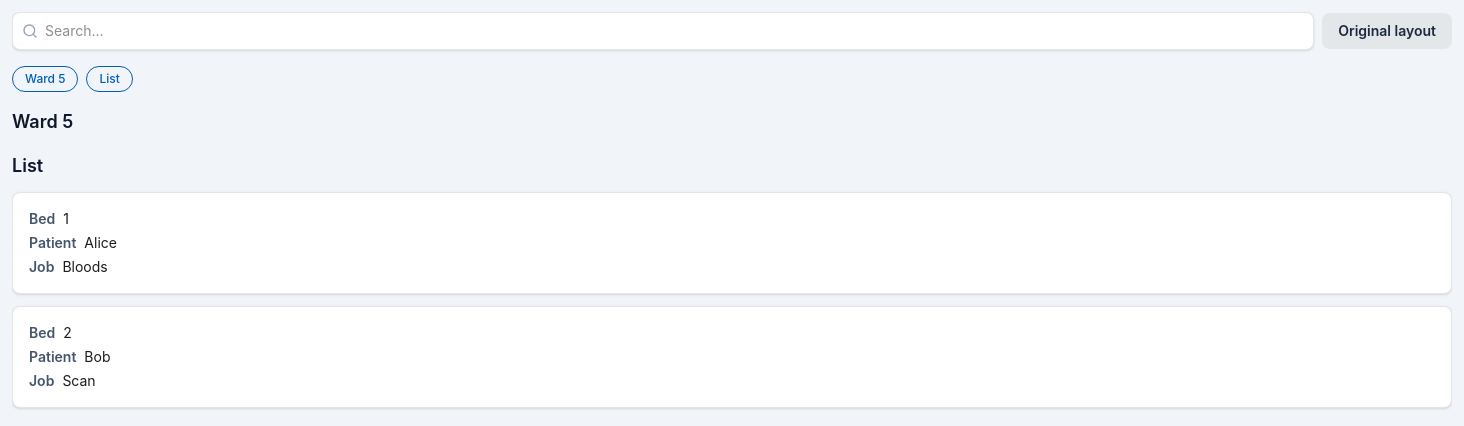
MobileView › toggles to original layout showing a real table
The image size is (1464, 426).
Step 1. Click the button "Original layout" → [1387, 31], box [1322,13,1452,49]
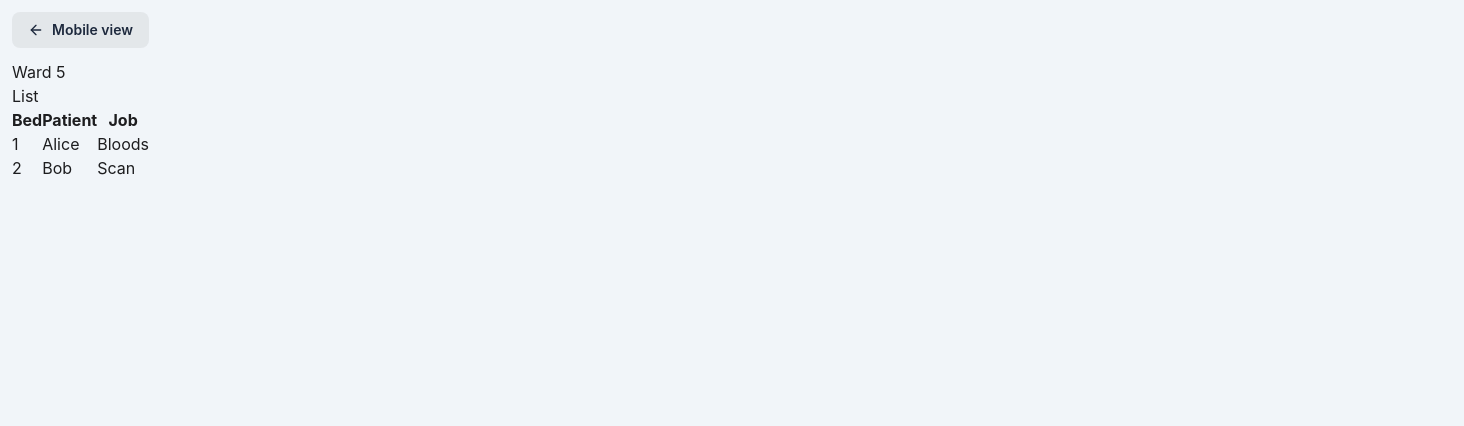
Expected: the table is shown, [12,108,149,180]
